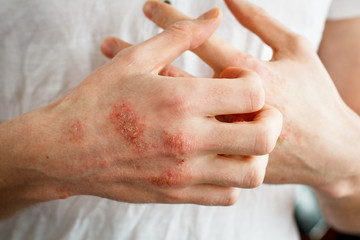Diseased: (84, 93, 203, 204)
